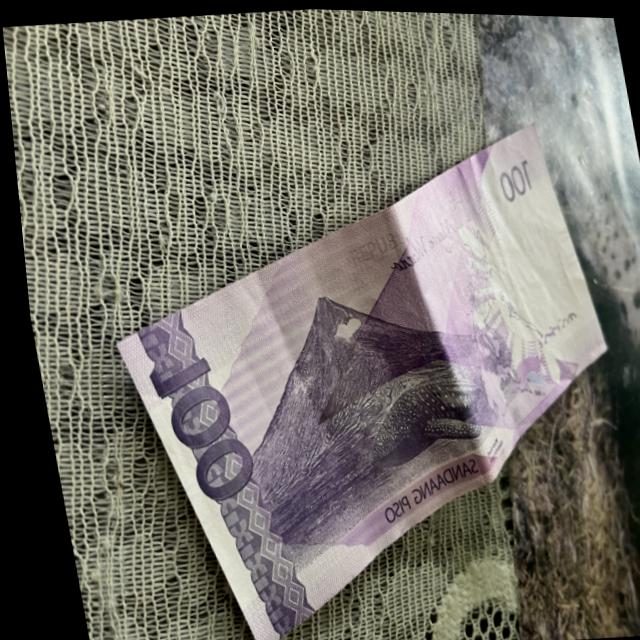value: (130, 327, 257, 508)
